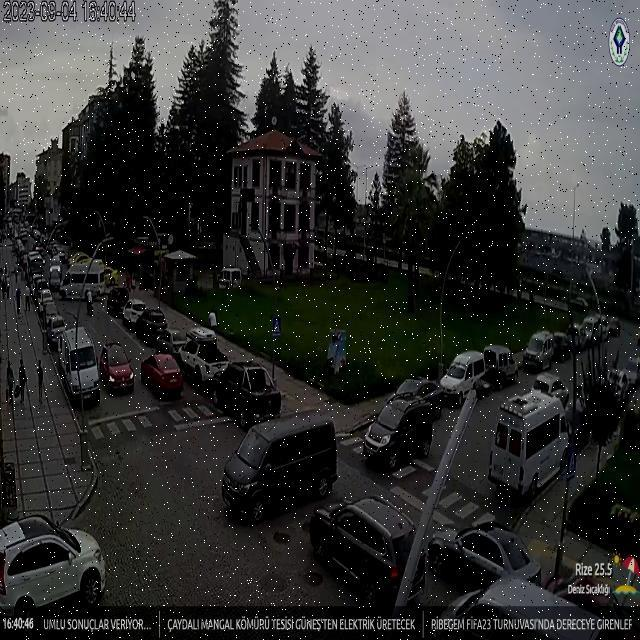Car: (308, 496, 421, 605), (440, 574, 612, 639), (1, 514, 106, 616), (426, 518, 540, 592), (364, 379, 448, 469), (213, 360, 282, 426), (438, 351, 488, 404), (178, 336, 230, 384), (141, 352, 183, 399), (100, 343, 134, 394), (482, 344, 518, 387), (522, 331, 558, 372), (136, 309, 172, 345), (617, 355, 640, 393), (578, 313, 604, 346), (44, 312, 66, 348), (122, 298, 149, 327), (107, 286, 130, 316), (38, 288, 56, 312)
Van: (222, 412, 337, 524), (491, 389, 571, 492), (56, 328, 100, 406)
